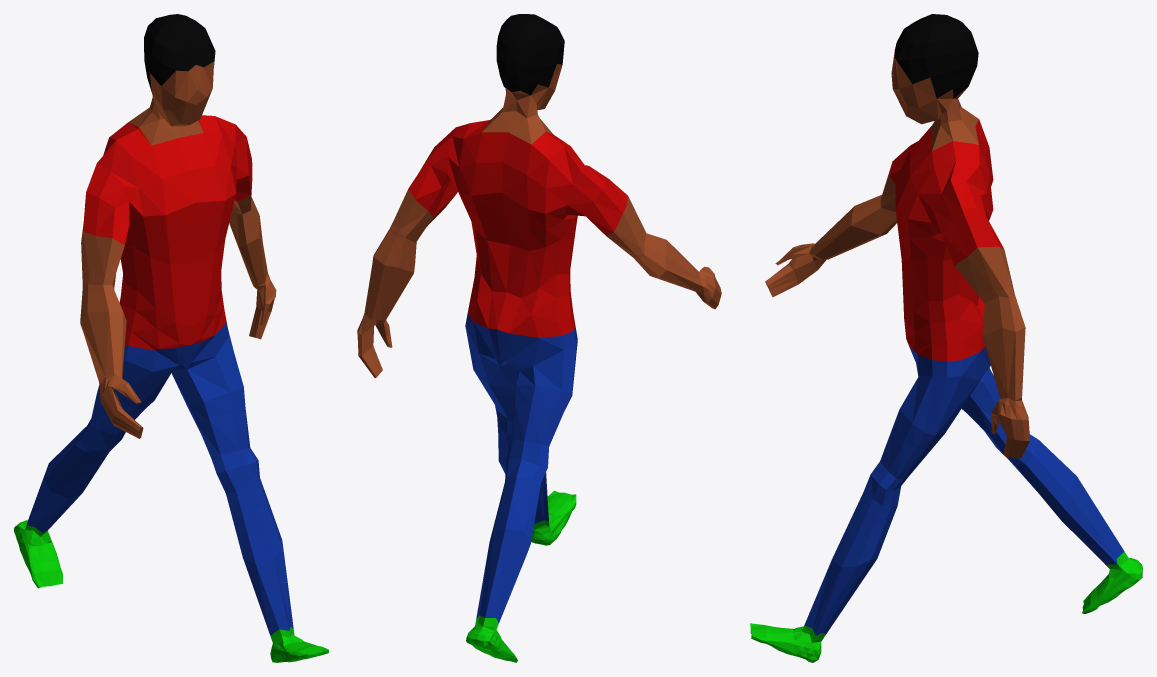
Rendered from Character3.obj.
3 views of the same model, side by side, from view 1: azimuth 30°, elevation 25°; view 2: azimuth 150°, elevation 25°; view 3: azimuth 270°, elevation 25° (orthographic). The views are drawn at different scales.
Parts seen in each view (by area): view 1: Cube_Cube.002; view 2: Cube_Cube.002; view 3: Cube_Cube.002.
Part boxes in pixels (x1=…): Cube_Cube.002: x1=14, y1=14, x2=328, y2=662; Cube_Cube.002: x1=357, y1=14, x2=721, y2=662; Cube_Cube.002: x1=750, y1=14, x2=1142, y2=662.
Bounding box in the file's own units: 0.7738 × 1.66 × 0.9543.
